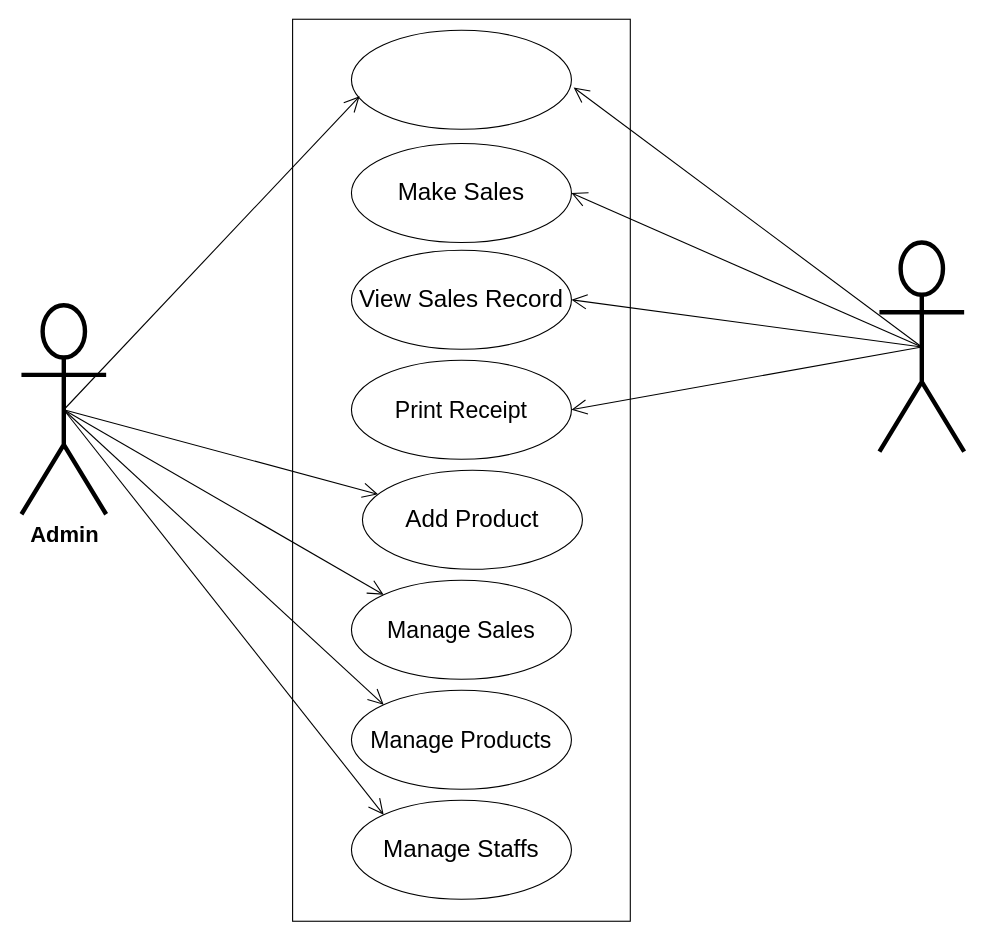
Some shapes in this 985 by 941 pixel diagram are drawn without their labels. The centre of each missing label's shape, as x and y in pixels:
Login / Logout: point (460, 79)
Staff: point (921, 346)
